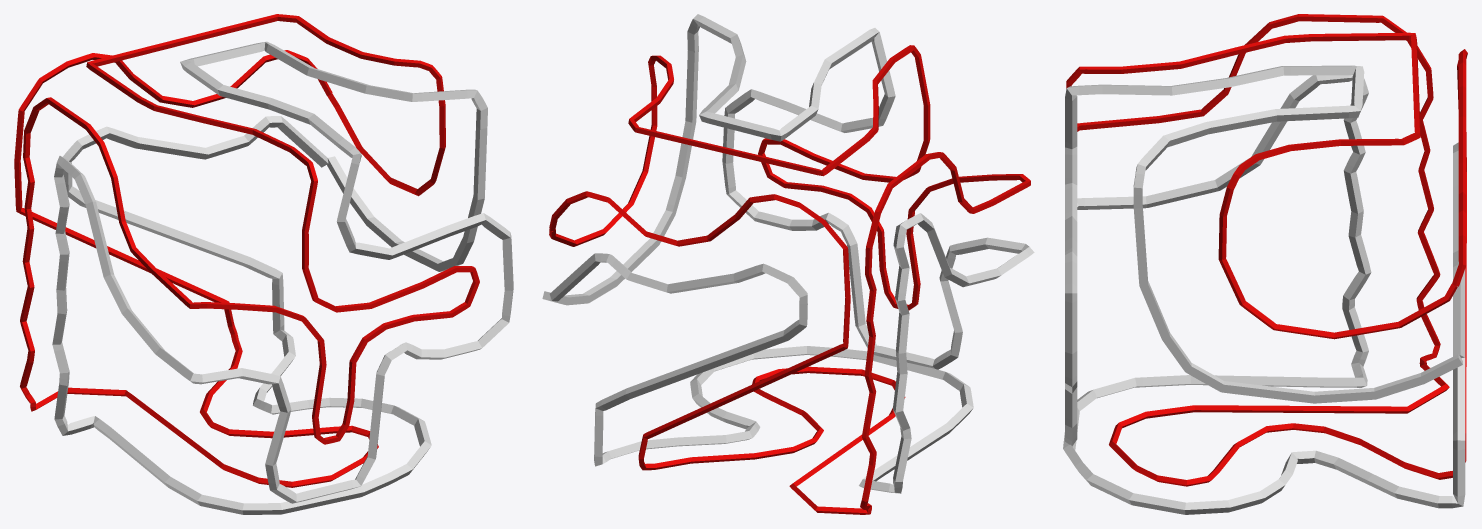
File: track_2fbx.fbx
3 renders of one model, left to right at view 1: azimuth 30°, elevation 25°; view 2: azimuth 150°, elevation 25°; view 3: azimuth 270°, elevation 25°, orthographic. The views are drawn at different scales.
Parts seen in each view (by area): view 1: B_coll_2, B_coll_1; view 2: B_coll_2, B_coll_1; view 3: B_coll_2, B_coll_1.
Boxes of the visible parts, x1,y1,x2,y2 form: B_coll_2: [52, 41, 513, 514]; B_coll_1: [14, 14, 479, 487]; B_coll_2: [542, 14, 1034, 493]; B_coll_1: [549, 45, 1030, 514]; B_coll_2: [1063, 65, 1465, 514]; B_coll_1: [1066, 14, 1467, 486].
Bounding box in the file's own units: 206 × 208 × 207.
